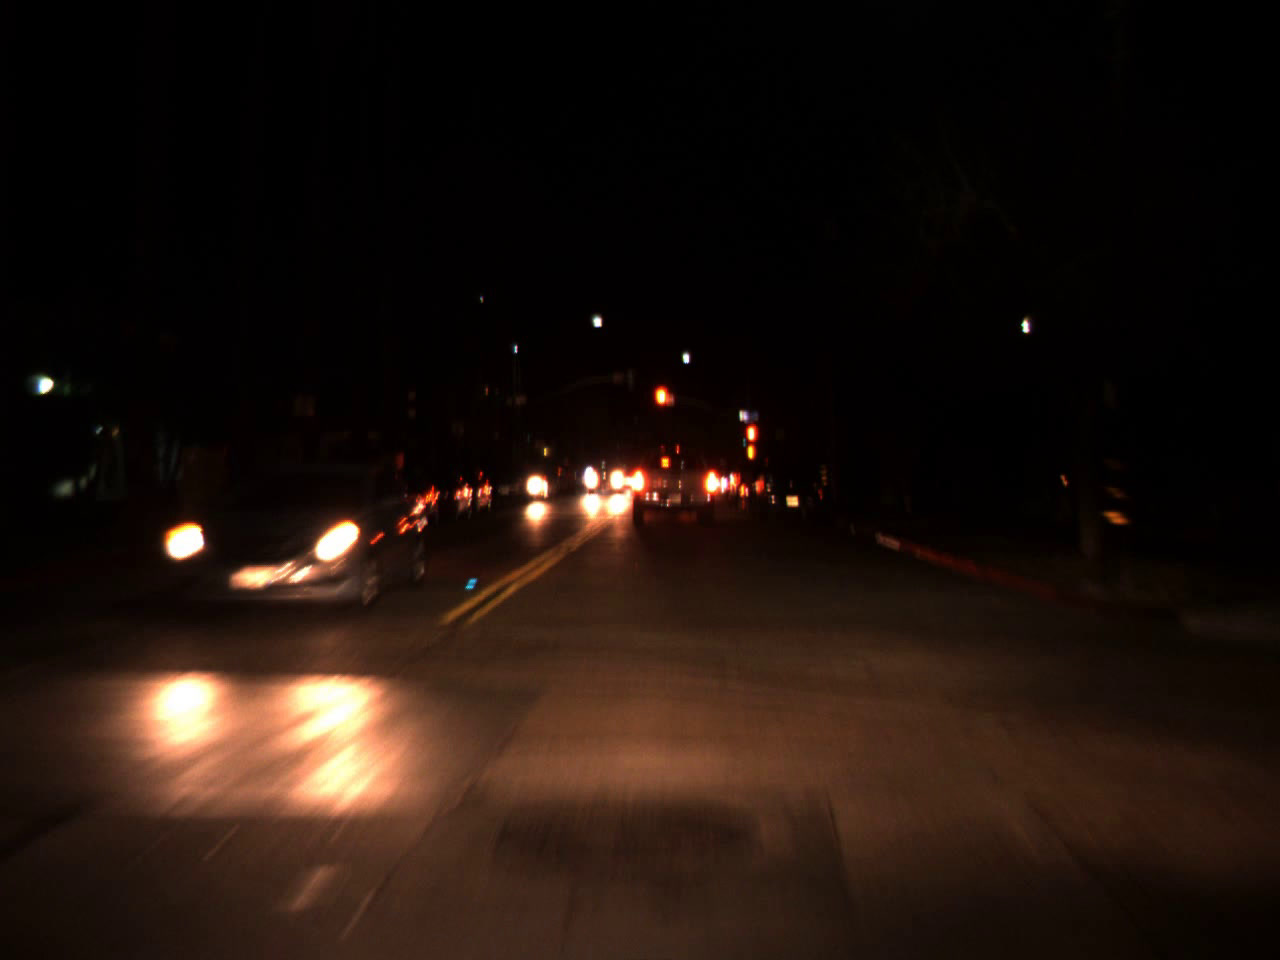stop: (650, 381, 675, 432), (743, 422, 759, 465)
